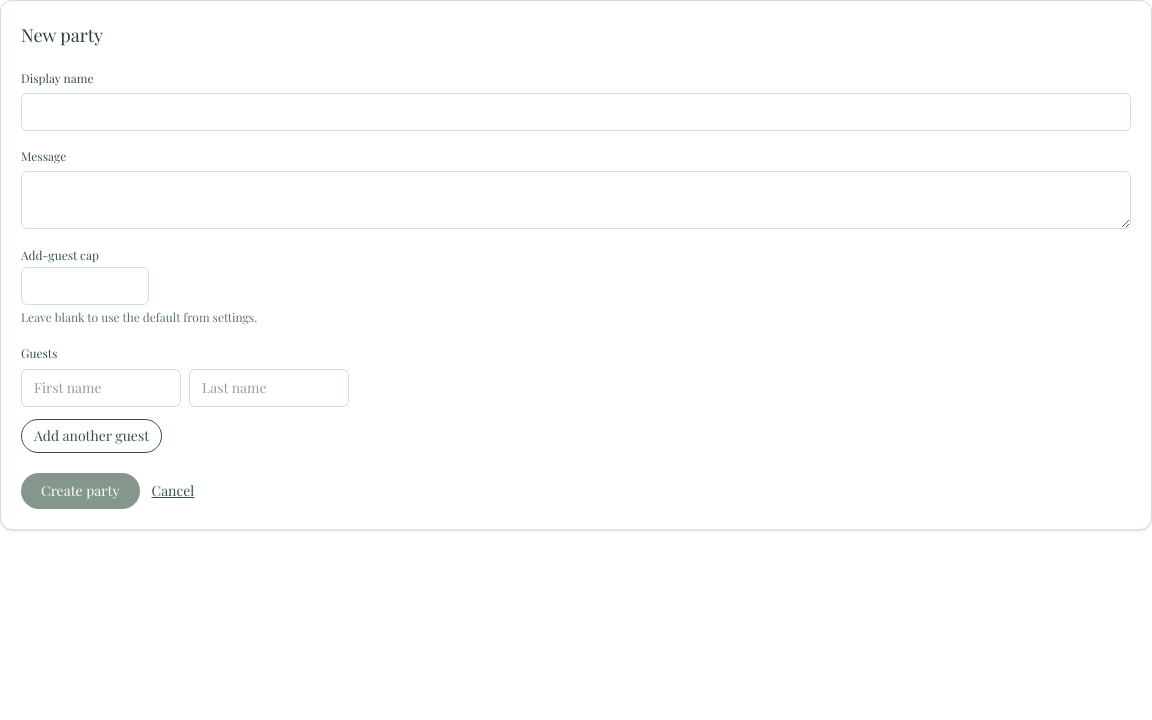
it: NewPartyForm › shows the server message and does not report success when the create fails
The image size is (1152, 720).
Type "x" into the field labelled "Display name" at (576, 112), box [21, 93, 1131, 131]
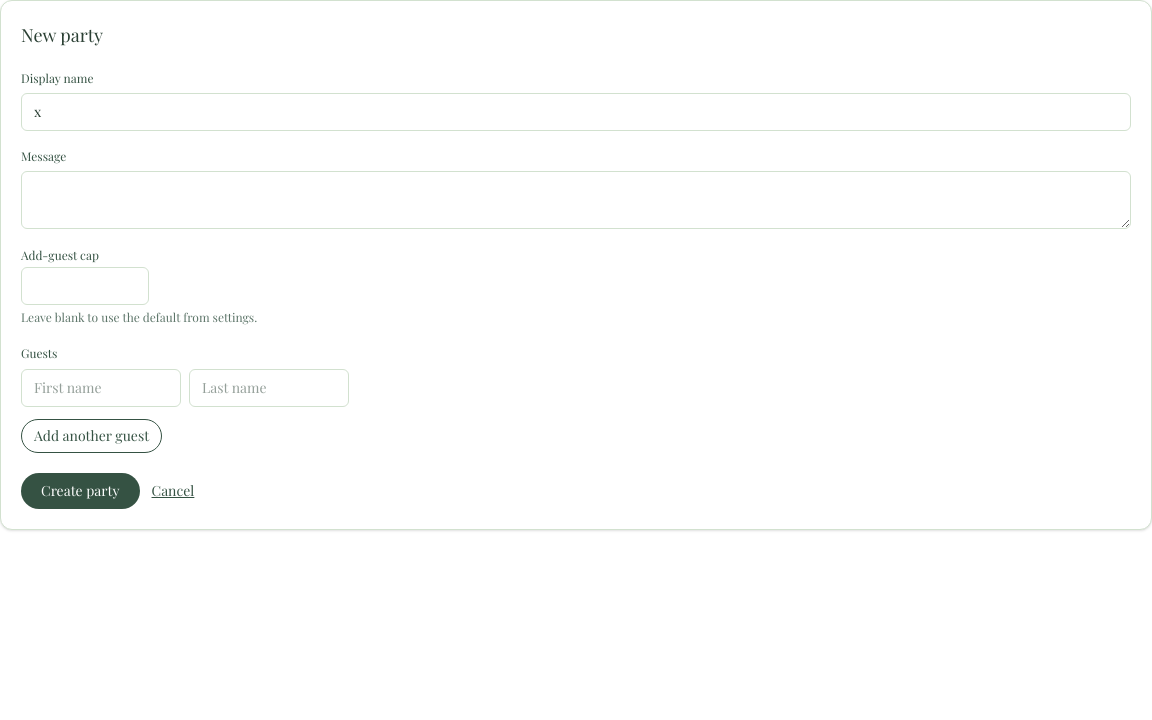
Click the button "Create party" at (80, 491), box [21, 473, 140, 509]
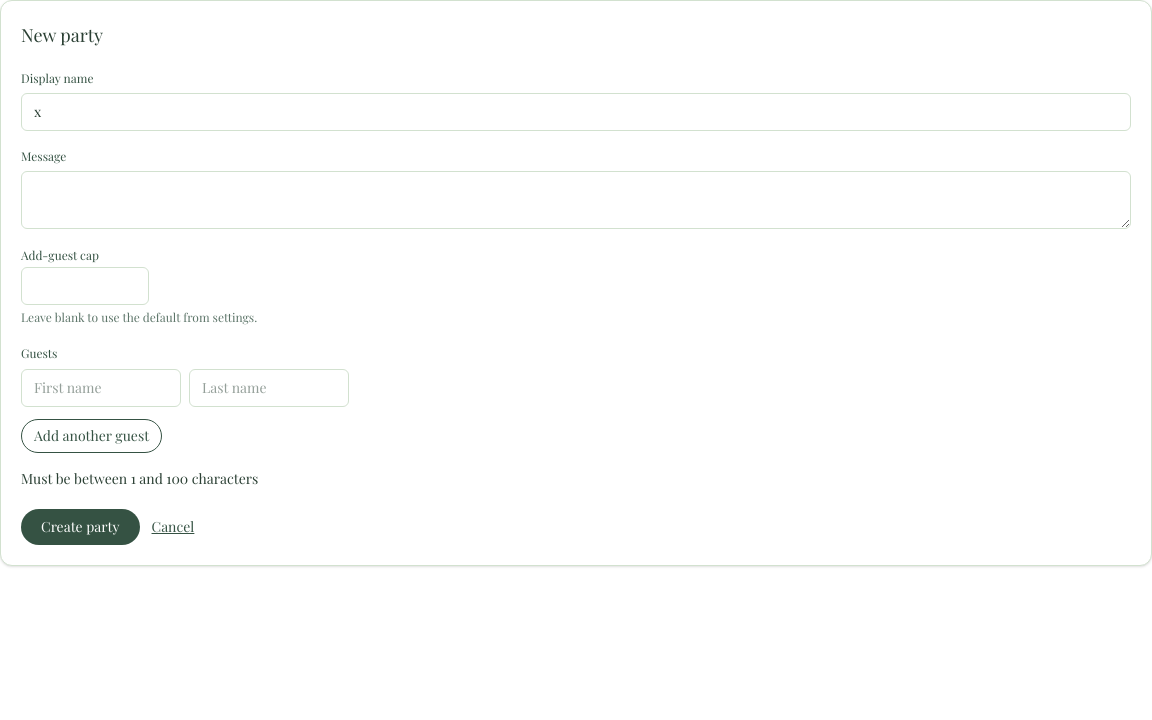
Expected: the message with test id "new-party-error" reads "Must be between 1 and 100 characters", [21, 469, 258, 488]
